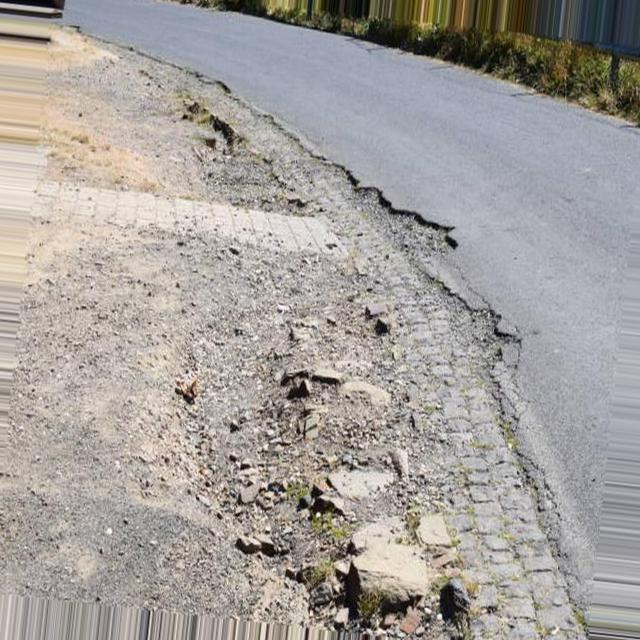Pinggir: (116, 32, 594, 640)
